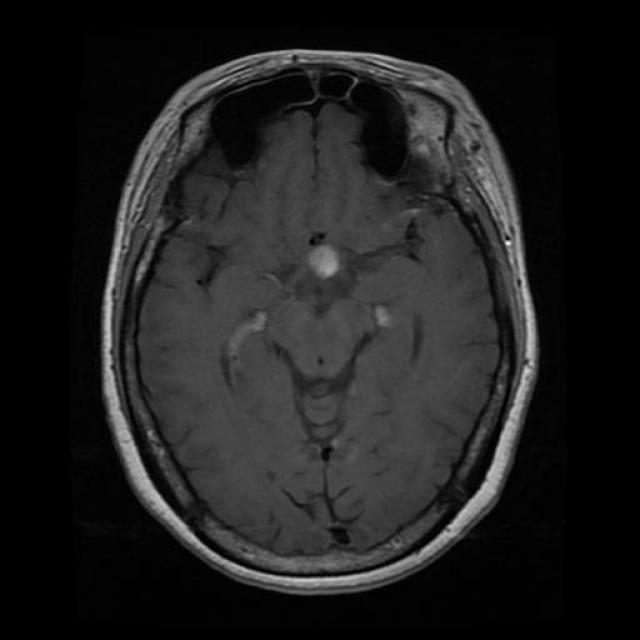Brain-Tumor: (299, 222, 355, 294)
